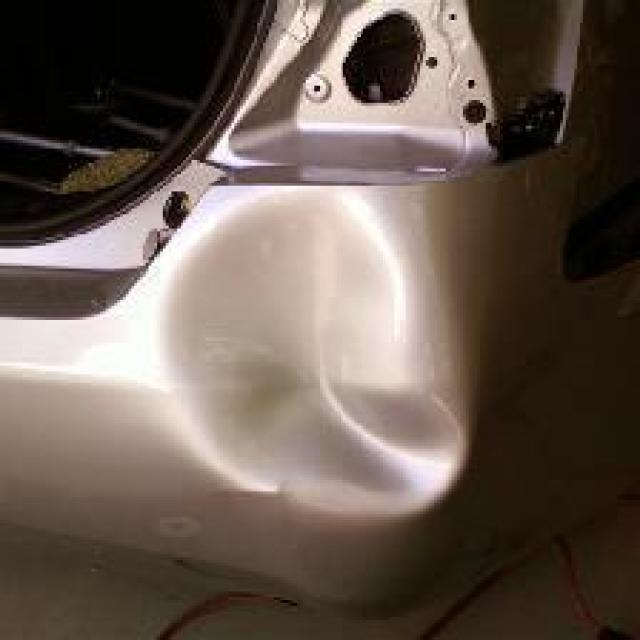damaged: (157, 188, 472, 520)
